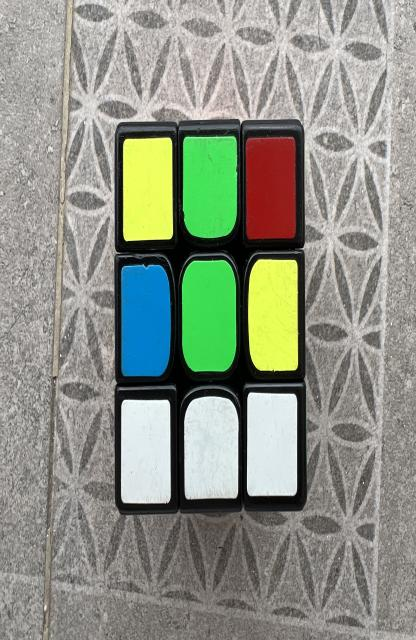Blue: (121, 265, 171, 377)
Green: (182, 260, 236, 372), (183, 137, 237, 238)
Red: (246, 137, 296, 240)
White: (184, 397, 239, 500), (247, 392, 297, 497), (121, 400, 171, 503)
Yellow: (248, 258, 298, 372), (123, 137, 173, 242)
